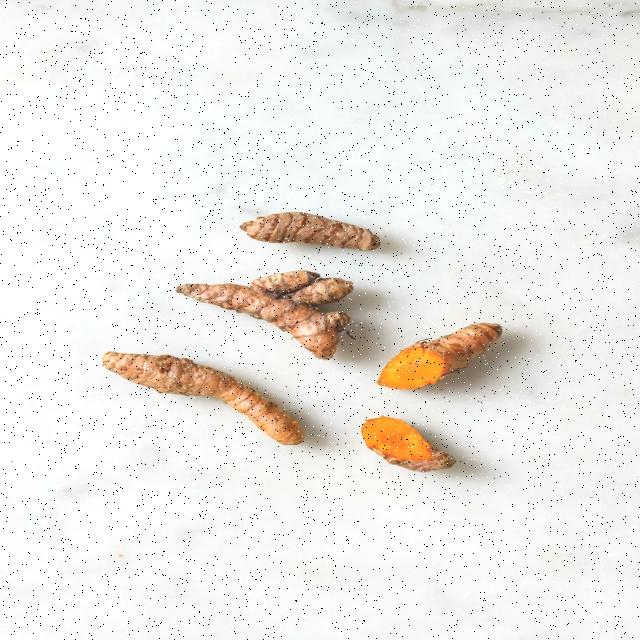turmeric: (64, 336, 323, 464), (160, 255, 373, 364), (226, 188, 395, 254), (362, 313, 502, 391), (354, 414, 490, 477)
